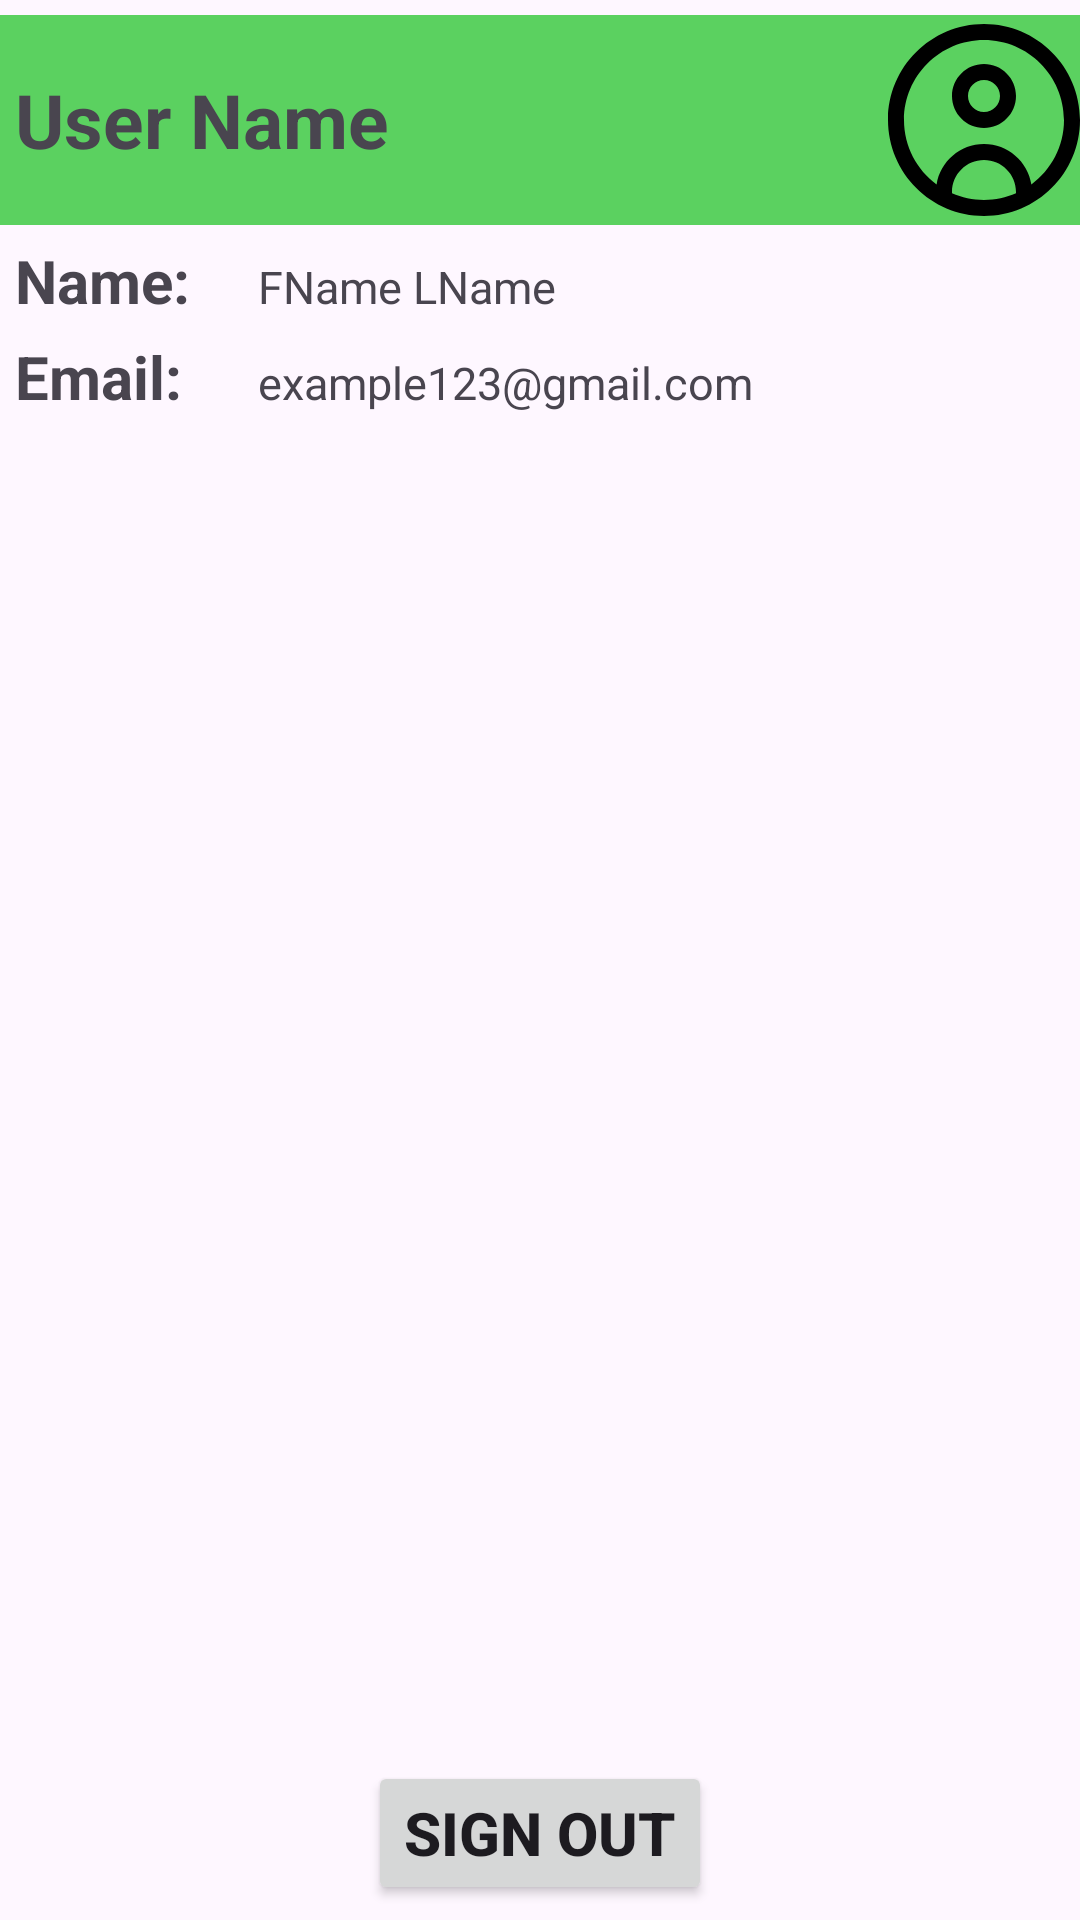

Icon click points for this 1080px x 1920px phone screenshot, format [x,y]:
profile: [984,120]
